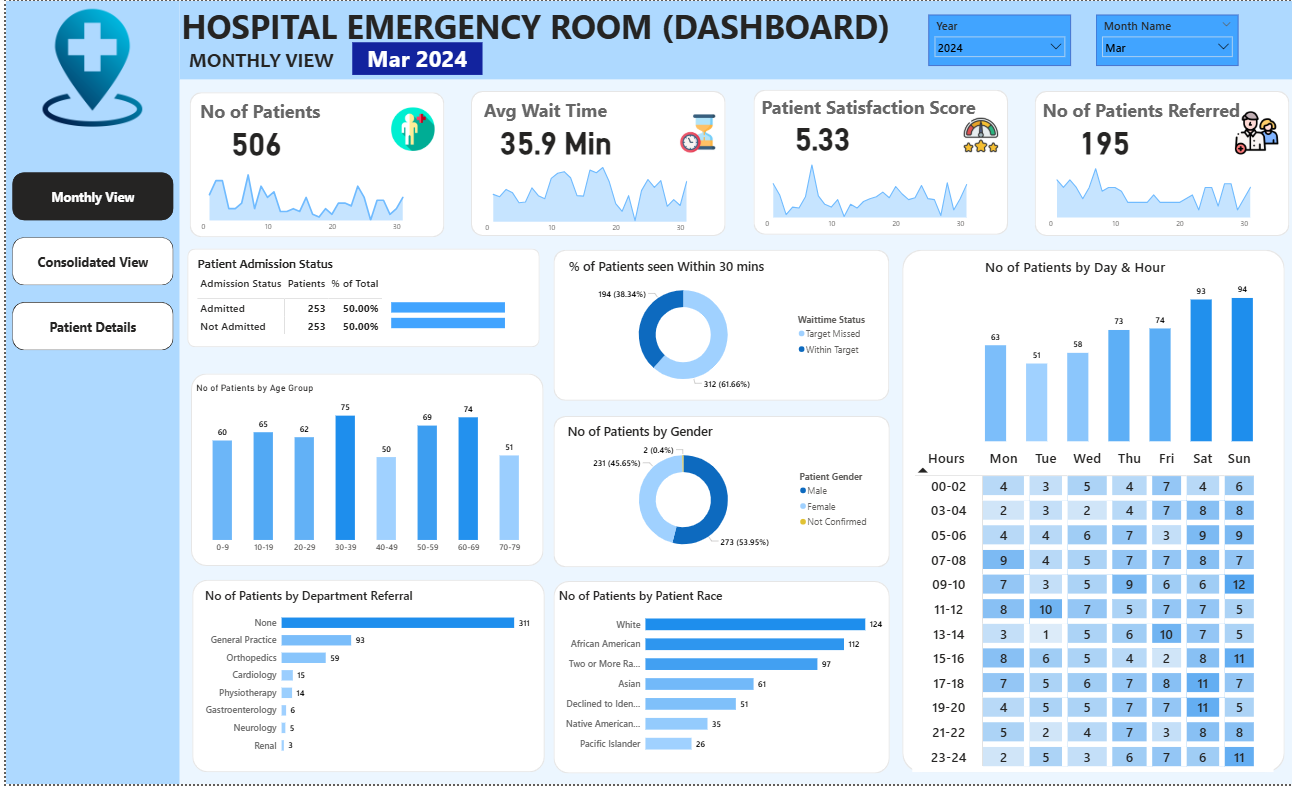

This screenshot's page, from the dashboard's own definition file:
{"tool":"powerbi","page":{"name":"Monthly View","canvas":[2300,1400],"ordinal":0},"visuals":[{"type":"shape","box":[0,0,310,1400.5],"z":0},{"type":"shape","box":[310.5,0,1990.1,140],"z":1000},{"type":"shape","box":[327.6,163.3,455,259.1],"z":2000},{"type":"textbox","box":[309,0,1991,139.3],"z":3000},{"type":"textbox","box":[341.7,169.8,268,60.3],"z":4000},{"type":"card","fields":{"Values":["Hospital ER_Data.No of Patients"]},"box":[331.8,192.5,228,114],"z":5000},{"type":"slicer","fields":{"Values":["Date Table.Year"]},"box":[1648.4,24.6,254.6,91.6],"z":6000},{"type":"slicer","fields":{"Values":["Date Table.Month Name"]},"box":[1947.7,24.6,254.6,91.6],"z":7000},{"type":"textbox","box":[321.7,78.5,296.4,58.3],"z":8000},{"type":"areaChart","fields":{"Category":["Date Table.Date.Variation.Date Hierarchy.Day"],"Y":["Key Measures.No of Patients"]},"box":[336.9,276.1,433.1,144.4],"z":9000},{"type":"card","fields":{"Values":["Min(Date Table.Month & Year)"]},"box":[618.1,73.5,233,58.3],"z":10000},{"type":"shape","box":[831.4,161.1,455,259.1],"z":11000},{"type":"textbox","box":[848.8,167.5,270.3,60.3],"z":12000},{"type":"card","fields":{"Values":["Key Measures.Avg Wait Time"]},"box":[868.9,189.9,227.8,113.9],"z":13000},{"type":"areaChart","fields":{"Category":["Date Table.Date.Variation.Date Hierarchy.Day"],"Y":["Avg(Hospital ER_Data.Patient Waittime)"]},"box":[843.5,278.6,433.1,144.4],"z":14000},{"type":"shape","box":[1335.3,159.1,455,259.1],"z":15000},{"type":"textbox","box":[1345,162.1,430.6,60.8],"z":16000},{"type":"areaChart","fields":{"Category":["Date Table.Date.Variation.Date Hierarchy.Day"],"Y":["Sum(Hospital ER_Data.Patient Satisfaction Score)"]},"box":[1345,273.6,433.1,144.4],"z":17000},{"type":"shape","box":[1839.1,161.1,455,259.1],"z":18000},{"type":"textbox","box":[1846.6,167.2,418,60.8],"z":19000},{"type":"card","fields":{"Values":["Key Measures.No of Patients Referred"]},"box":[1849.1,190,228,114],"z":20000},{"type":"areaChart","fields":{"Category":["Date Table.Date.Variation.Date Hierarchy.Day"],"Y":["Key Measures.No of Patients Referred"]},"box":[1851.7,273.6,433.1,144.4],"z":21000},{"type":"card","fields":{"Values":["Key Measures.Satisfaction Score"]},"box":[1345,182.4,228,114],"z":22000},{"type":"shape","box":[323.9,442.2,629.9,176.5],"z":23000},{"type":"pivotTable","title":"Patient Admission Status","fields":{"Rows":["Hospital ER_Data.Admission Status"],"Values":["Key Measures.No of Patients1","Key Measures.No of Patients"]},"box":[336.5,456,598.5,150.2],"z":24000},{"type":"barChart","fields":{"Y":["Key Measures.No of Patients"],"Category":["Hospital ER_Data.Admission Status"]},"box":[684,512,251.1,94.2],"z":25000},{"type":"shape","box":[329.6,666.4,630,344],"z":26000},{"type":"clusteredColumnChart","fields":{"Category":["Hospital ER_Data.Age Group"],"Y":["Key Measures.No of Patients"]},"box":[335.6,680.4,618,316],"z":27000},{"type":"shape","box":[332,1034,630,344],"z":28000},{"type":"barChart","fields":{"Category":["Hospital ER_Data.Department Referral"],"Y":["Key Measures.No of Patients"]},"box":[350.7,1047.5,591.9,310.5],"z":29000},{"type":"shape","box":[978,445.1,600,270],"z":30000},{"type":"donutChart","title":"% of Patients seen Within 30 mins","fields":{"Category":["Hospital ER_Data.Waittime Status"],"Y":["Key Measures.No of Patients"]},"box":[1001.3,456.8,553.3,246.7],"z":31000},{"type":"shape","box":[977.4,740.7,600.8,270.3],"z":32000},{"type":"donutChart","title":"No of Patients by Gender","fields":{"Category":["Hospital ER_Data.Patient Gender"],"Y":["Key Measures.No of Patients"]},"box":[998.8,752.7,553.3,246.7],"z":33000},{"type":"shape","box":[978.3,1036.4,600.8,344],"z":34000},{"type":"barChart","title":"No of Patients by Patient Race","fields":{"Y":["Key Measures.No of Patients"],"Category":["Hospital ER_Data.Patient Race"]},"box":[982.8,1047.5,589.7,310.5],"z":35000},{"type":"shape","box":[1601.5,444.5,683.5,933.6],"z":36000},{"type":"pivotTable","fields":{"Rows":["Hospital ER_Data.Waittime Interval"],"Columns":["Date Table.Day Name"],"Values":["Key Measures.No of Patients"]},"box":[1619.3,792.9,645.5,585.2],"z":37000},{"type":"columnChart","title":"No of Patients by Day & Hour","fields":{"Category":["Date Table.Day Name"],"Y":["Key Measures.No of Patients"]},"box":[1744.4,457.9,491.4,335],"z":38000},{"type":"image","box":[2191.1,192.1,87.1,87.1],"z":39000},{"type":"image","box":[1197.2,189.9,78.2,93.8],"z":40000},{"type":"image","box":[1706.5,196.6,71.5,84.9],"z":41000},{"type":"image","box":[683.5,185.4,87.1,87.1],"z":42000},{"type":"image","box":[42.4,8.9,223.4,221.1],"z":43000},{"type":"pageNavigator","box":[11.2,306,288.1,319.4],"z":44000}]}

Visuals, with their boxes in screenshot pixels (x1, y1, x2, y2), scaled from the page's 2300x1400 canvas onto the 1292x786 screenshot:
shape: [0, 0, 174, 785]
shape: [174, 0, 1291, 79]
shape: [184, 92, 440, 237]
textbox: [174, 0, 1291, 78]
textbox: [192, 95, 342, 129]
card - Hospital ER_Data.No of Patients: [186, 108, 314, 172]
slicer - Date Table.Year: [926, 14, 1069, 65]
slicer - Date Table.Month Name: [1094, 14, 1237, 65]
textbox: [181, 44, 347, 77]
areaChart - Date Table.Date.Variation.Date Hierarchy.Day x Key Measures.No of Patients: [189, 155, 433, 236]
card - Min(Date Table.Month & Year): [347, 41, 478, 74]
shape: [467, 90, 723, 236]
textbox: [477, 94, 629, 128]
card - Key Measures.Avg Wait Time: [488, 107, 616, 171]
areaChart - Date Table.Date.Variation.Date Hierarchy.Day x Avg(Hospital ER_Data.Patient Waittime): [474, 156, 717, 237]
shape: [750, 89, 1006, 235]
textbox: [756, 91, 997, 125]
areaChart - Date Table.Date.Variation.Date Hierarchy.Day x Sum(Hospital ER_Data.Patient Satisfaction Score): [756, 154, 999, 235]
shape: [1033, 90, 1289, 236]
textbox: [1037, 94, 1272, 128]
card - Key Measures.No of Patients Referred: [1039, 107, 1167, 171]
areaChart - Date Table.Date.Variation.Date Hierarchy.Day x Key Measures.No of Patients Referred: [1040, 154, 1283, 235]
card - Key Measures.Satisfaction Score: [756, 102, 884, 166]
shape: [182, 248, 536, 347]
"Patient Admission Status" pivotTable: [189, 256, 525, 340]
barChart - Key Measures.No of Patients x Hospital ER_Data.Admission Status: [384, 287, 525, 340]
shape: [185, 374, 539, 567]
clusteredColumnChart - Hospital ER_Data.Age Group x Key Measures.No of Patients: [189, 382, 536, 559]
shape: [186, 581, 540, 774]
barChart - Hospital ER_Data.Department Referral x Key Measures.No of Patients: [197, 588, 529, 762]
shape: [549, 250, 886, 401]
"% of Patients seen Within 30 mins" donutChart: [562, 256, 873, 395]
shape: [549, 416, 887, 568]
"No of Patients by Gender" donutChart: [561, 423, 872, 561]
shape: [550, 582, 887, 775]
"No of Patients by Patient Race" barChart: [552, 588, 883, 762]
shape: [900, 250, 1284, 774]
pivotTable - Hospital ER_Data.Waittime Interval x Date Table.Day Name: [910, 445, 1272, 774]
"No of Patients by Day & Hour" columnChart: [980, 257, 1256, 445]
image: [1231, 108, 1280, 157]
image: [673, 107, 716, 159]
image: [959, 110, 999, 158]
image: [384, 104, 433, 153]
image: [24, 5, 149, 129]
pageNavigator: [6, 172, 168, 351]
